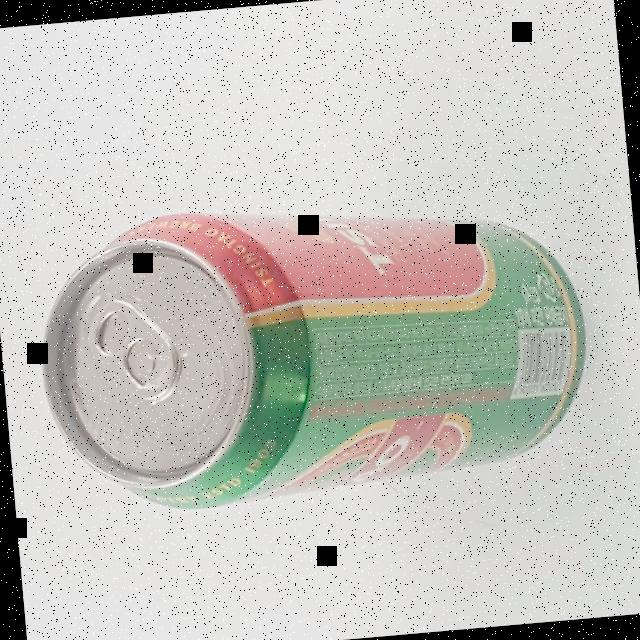can: (28, 178, 597, 522)
